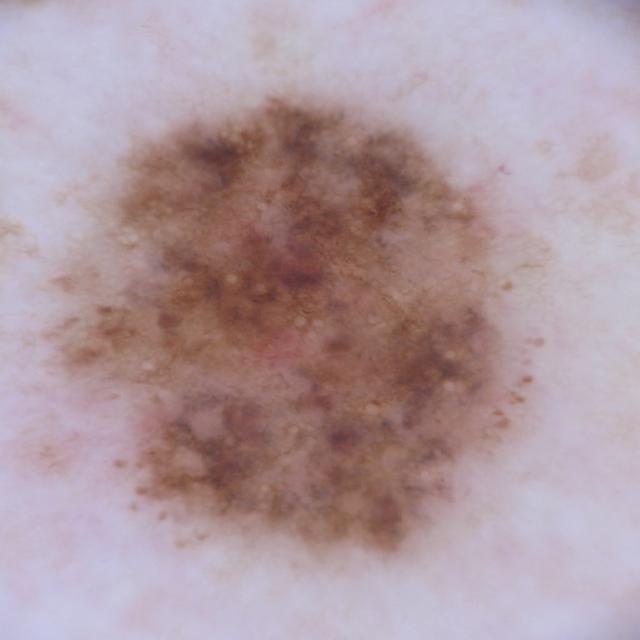Benign: (29, 90, 569, 583)
